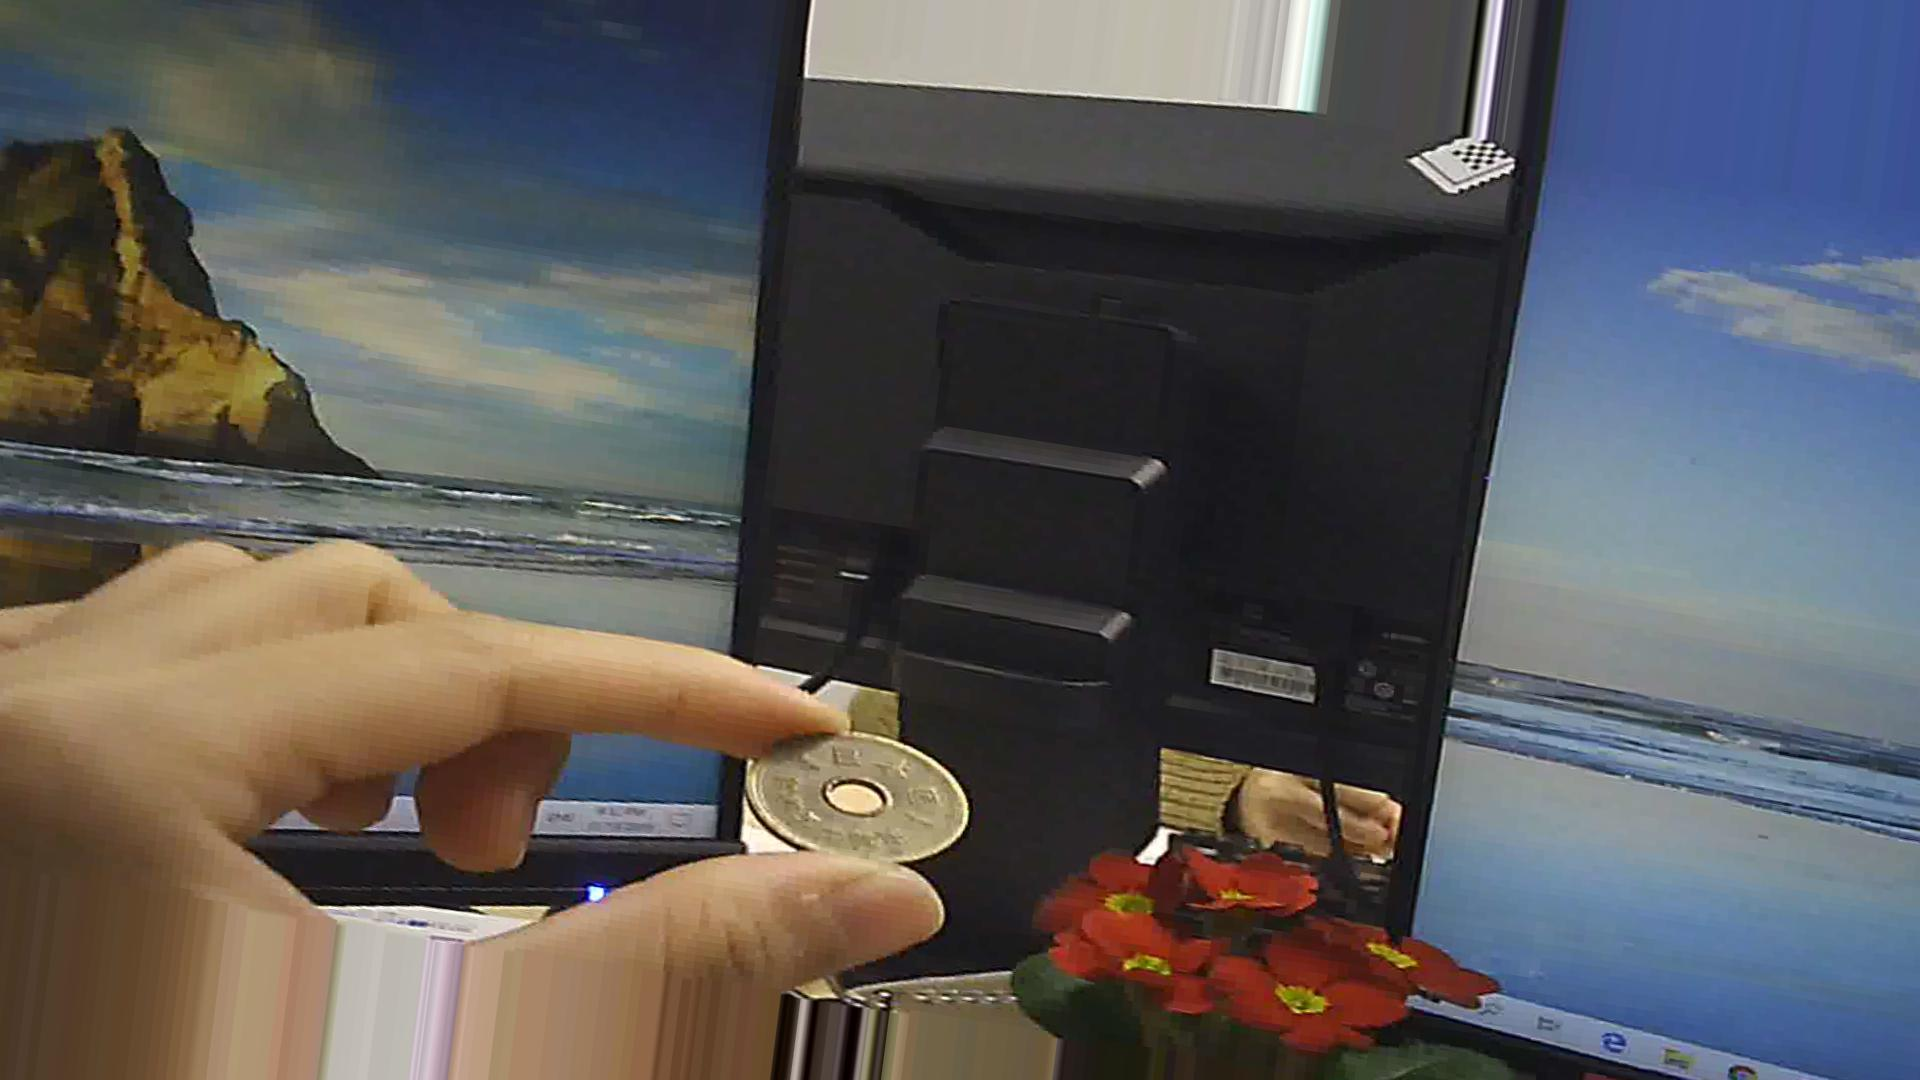5 Yen: (736, 723, 975, 881)
